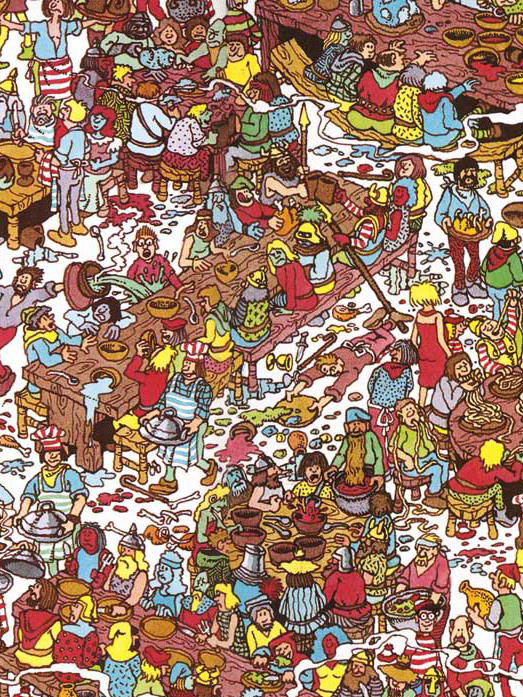waldo: (412, 594, 438, 634)
